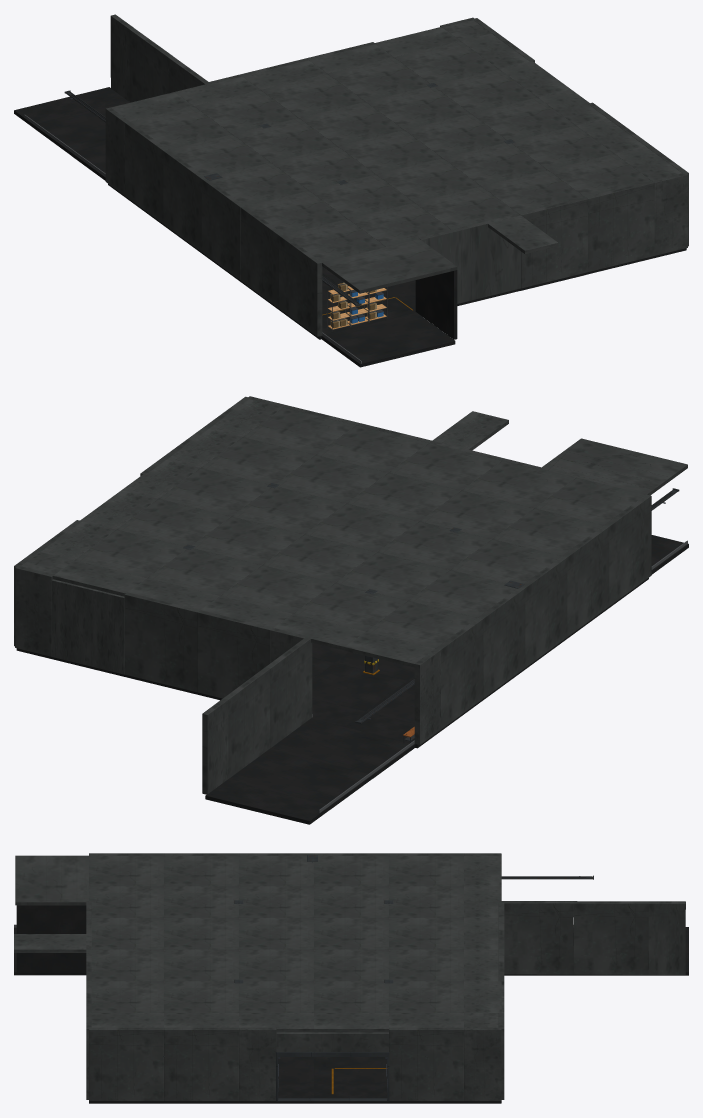
The model's file is z10_conector.glb.
The picture shows the model from 3 angles, top to bottom: view 1: azimuth 30°, elevation 25°; view 2: azimuth 150°, elevation 25°; view 3: azimuth 270°, elevation 25°; orthographic projection. The views are drawn at different scales.
Visible parts, largest first — view 1: KIT_PILOT_Z10_Wall_S_03, KIT_PILOT_Z10_Lintel_S_Short, KIT_PILOT_Z10_Wall_S_02, KIT_PILOT_Z10_Ceiling_Airlock_00, KIT_PILOT_Z10_Floor_05.001, KIT_PILOT_Z10_Wall_W_00, KIT_PILOT_Z10_Wall_W_01, KIT_PILOT_Z10_Wall_W_04, KIT_PILOT_Z10_Wall_W_02, KIT_PILOT_Z10_Wall_W_03, KIT_PILOT_Z10_Wall_S_04, KIT_PILOT_Z10_Ceiling_11 (+46 smaller); view 2: KIT_PILOT_Z10_Wall_N_03, KIT_PILOT_Z10_Lintel_N_Header, KIT_PILOT_Z10_Wall_N_02, KIT_PILOT_Z10_Ceiling_Airlock_00, KIT_PILOT_Z10_Floor_04.001, KIT_PILOT_Z10_Floor_04.002, KIT_PILOT_Z10_Wall_W_01, KIT_PILOT_Z10_Wall_W_00, KIT_PILOT_Z10_Wall_W_03, KIT_PILOT_Z10_Wall_W_02, KIT_PILOT_Z10_Wall_N_02.001, KIT_PILOT_Z10_Wall_N_02.002 (+49 smaller); view 3: KIT_PILOT_Z10_Wall_E_01, KIT_PILOT_Z10_Wall_E_03, KIT_PILOT_Z10_Wall_E_00, KIT_PILOT_Z10_Wall_N_02.002, KIT_PILOT_Z10_Wall_N_02.001, KIT_PILOT_Z10_Ceiling_Airlock_00, KIT_PILOT_Z10_Floor_Airlock_00, KIT_PILOT_Z10_Wall_E_04, KIT_PILOT_Z10_Wall_N_02.003, KIT_PILOT_Z10_Wall_E_02, KIT_PILOT_Z10_Ceiling_16, KIT_PILOT_Z10_Ceiling_17 (+42 smaller).
Part boxes in pixels (x1,y1,x2,y2): KIT_PILOT_Z10_Wall_S_03: (585,180,654,271); KIT_PILOT_Z10_Lintel_S_Short: (418,213,520,303); KIT_PILOT_Z10_Wall_S_02: (518,197,587,288); KIT_PILOT_Z10_Ceiling_Airlock_00: (322,239,457,293); KIT_PILOT_Z10_Floor_05.001: (321,313,455,367); KIT_PILOT_Z10_Wall_W_00: (279,234,322,336); KIT_PILOT_Z10_Wall_W_01: (240,206,283,308); KIT_PILOT_Z10_Wall_W_04: (125,121,167,223); KIT_PILOT_Z10_Wall_W_02: (202,178,244,280); KIT_PILOT_Z10_Wall_W_03: (163,149,205,251); KIT_PILOT_Z10_Wall_S_04: (652,173,687,255); KIT_PILOT_Z10_Ceiling_11: (376,158,480,202); KIT_PILOT_Z10_Wall_N_03: (124,592,199,691); KIT_PILOT_Z10_Lintel_N_Header: (51,579,124,674); KIT_PILOT_Z10_Wall_N_02: (197,610,272,698); KIT_PILOT_Z10_Ceiling_Airlock_00: (540,438,687,495); KIT_PILOT_Z10_Floor_04.001: (269,718,415,778); KIT_PILOT_Z10_Floor_04.002: (227,749,372,808); KIT_PILOT_Z10_Wall_W_01: (562,525,609,636); KIT_PILOT_Z10_Wall_W_00: (604,494,651,606); KIT_PILOT_Z10_Wall_W_03: (478,587,525,698); KIT_PILOT_Z10_Wall_W_02: (521,556,567,667); KIT_PILOT_Z10_Wall_N_02.001: (265,636,312,747); KIT_PILOT_Z10_Wall_N_02.002: (223,667,270,778); KIT_PILOT_Z10_Wall_E_01: (164,1027,238,1101); KIT_PILOT_Z10_Wall_E_03: (389,1027,463,1101); KIT_PILOT_Z10_Wall_E_00: (89,1027,163,1101); KIT_PILOT_Z10_Wall_N_02.002: (573,901,648,974); KIT_PILOT_Z10_Wall_N_02.001: (499,901,573,974); KIT_PILOT_Z10_Ceiling_Airlock_00: (15,855,88,905); KIT_PILOT_Z10_Floor_Airlock_00: (16,905,86,973); KIT_PILOT_Z10_Wall_E_04: (464,1027,501,1101); KIT_PILOT_Z10_Wall_N_02.003: (648,901,685,974); KIT_PILOT_Z10_Wall_E_02: (239,1027,276,1101); KIT_PILOT_Z10_Ceiling_16: (164,949,238,981); KIT_PILOT_Z10_Ceiling_17: (239,949,313,981).
Bounding box in the file's own units: 22.33 × 4.42 × 36.
Materials: 54 (38 with a texture image).
